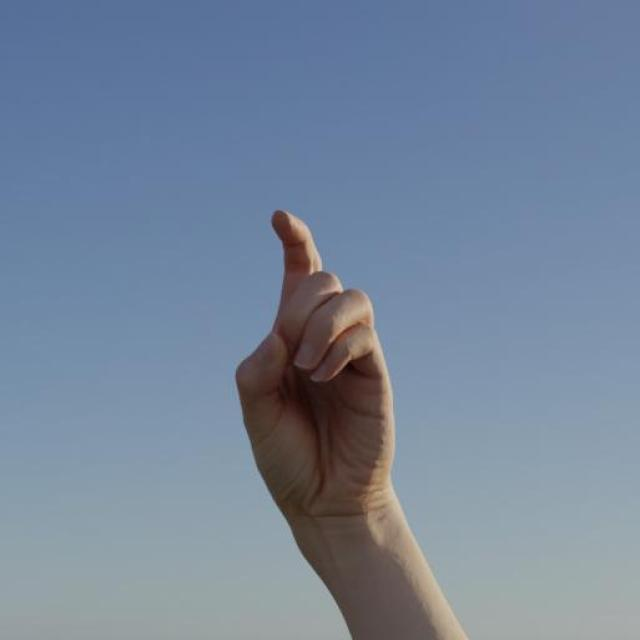X: (226, 205, 400, 520)
